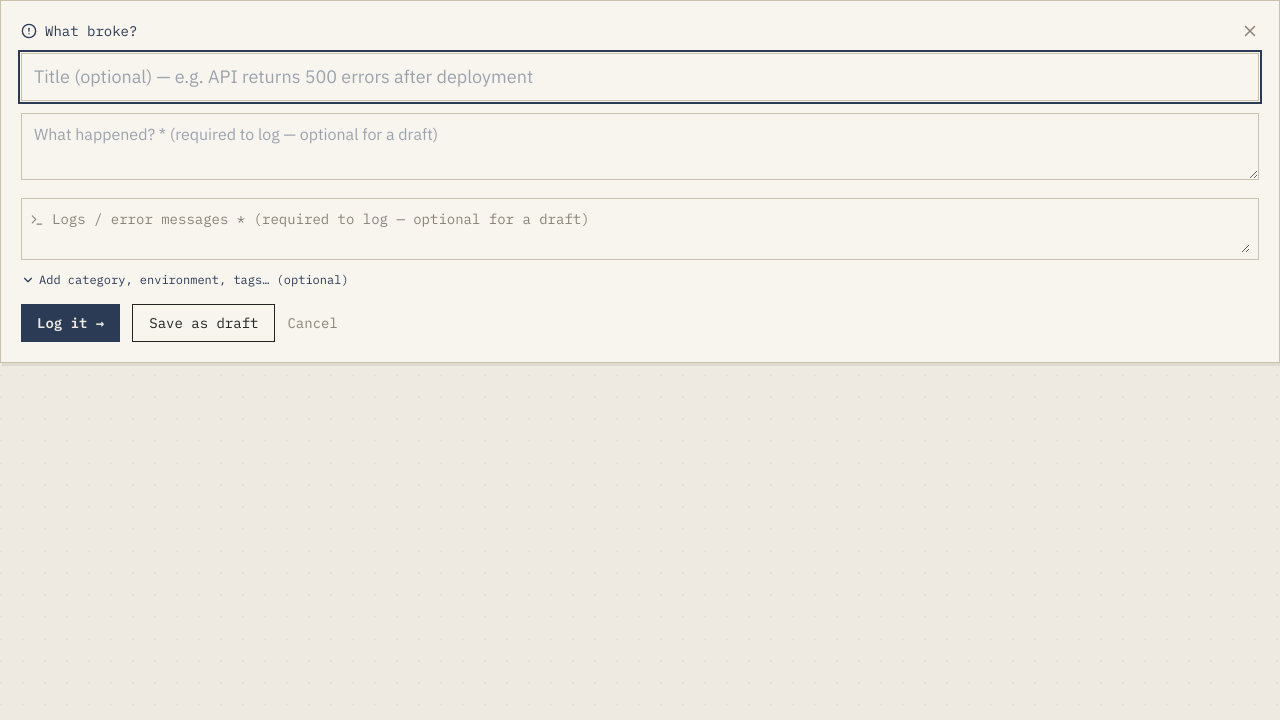
Test case: new entry form › requires a description before publishing
This screenshot has width=1280, height=720.
Type "fake log" into the text box named "Entry logs" at (651, 229), box [52,205,1250,253]
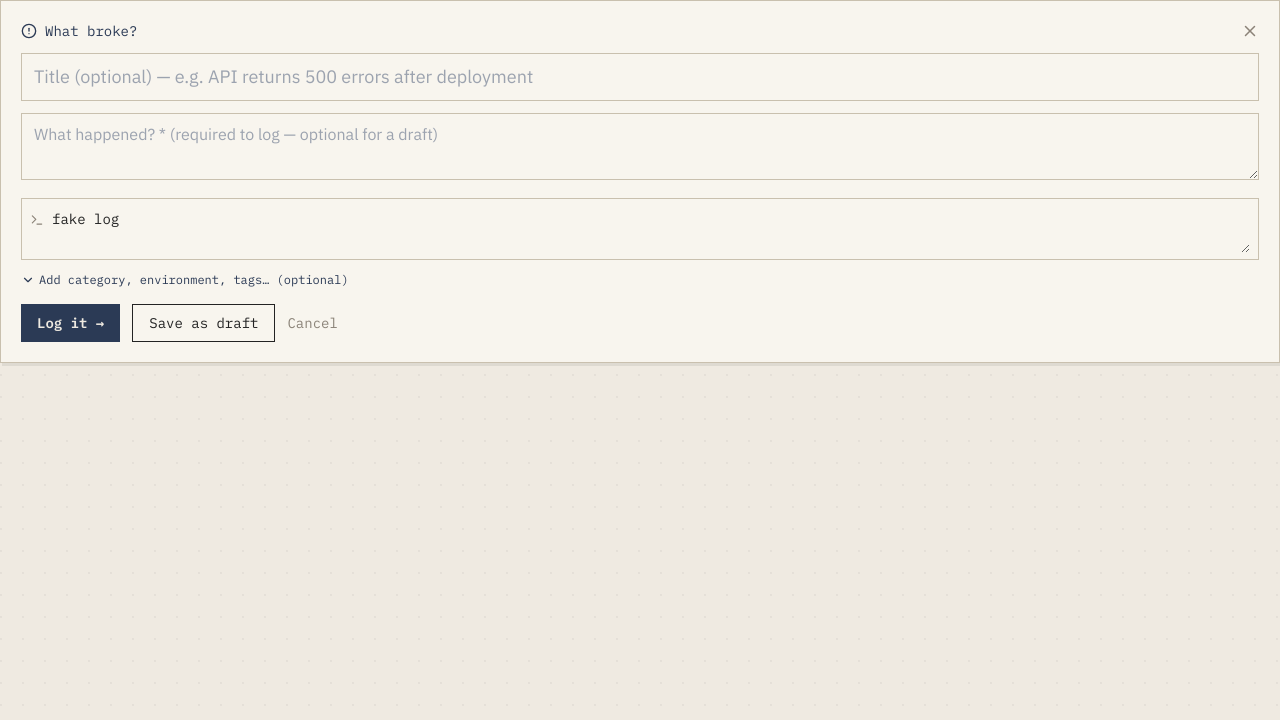
Click the button "Log it →" at (71, 323), box [21,304,120,342]
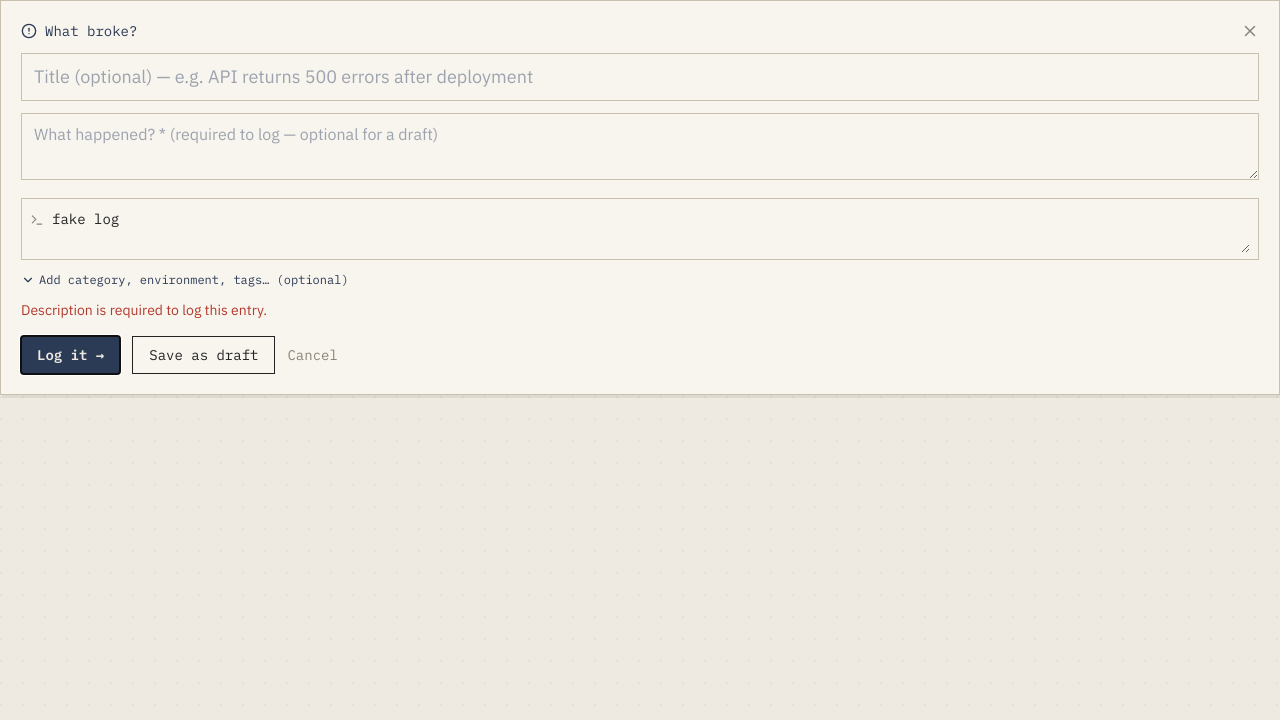
Expected: the text "Description is required to log this entry." is shown, [21,301,267,319]
